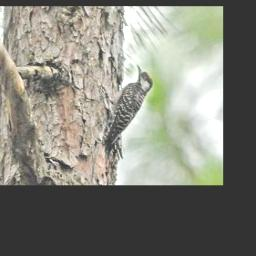Woodpecker: (101, 60, 153, 155)
